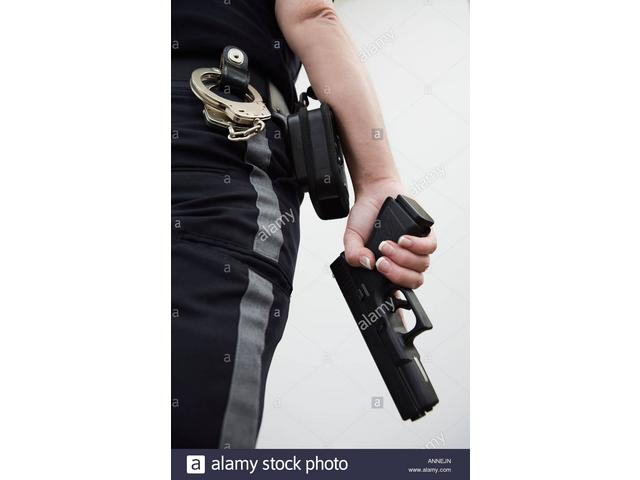pistol: (326, 195, 451, 427)
